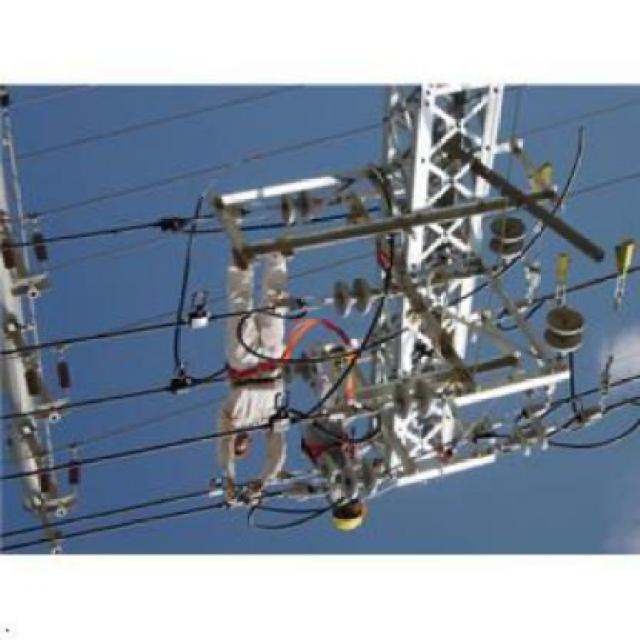sin casco: (176, 375, 270, 470)
